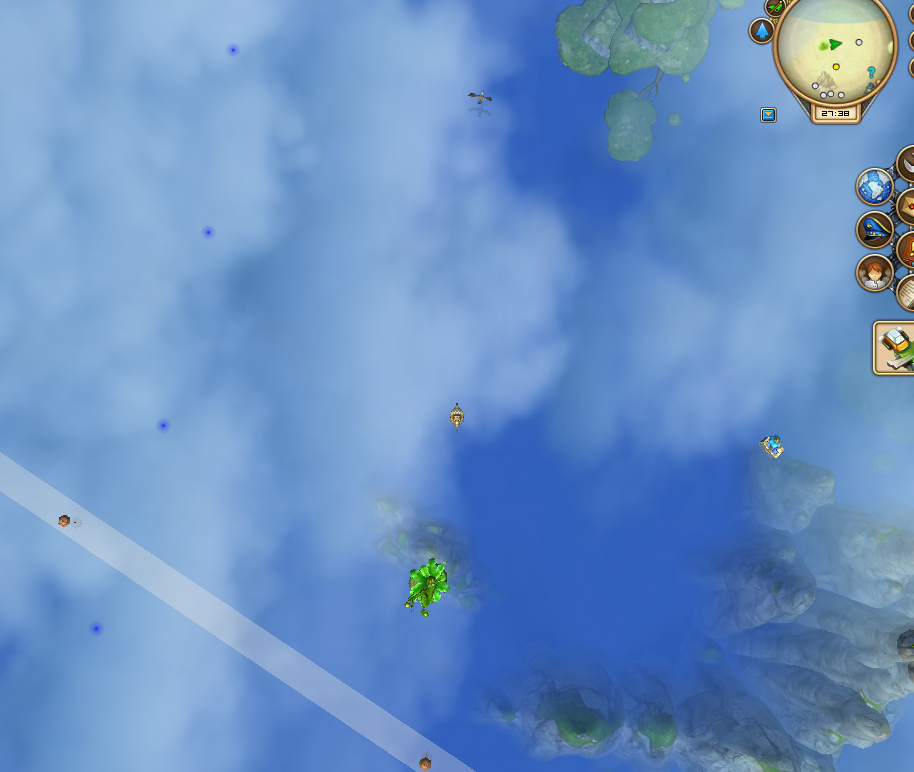dandelion-empty: (400, 556, 455, 622)
